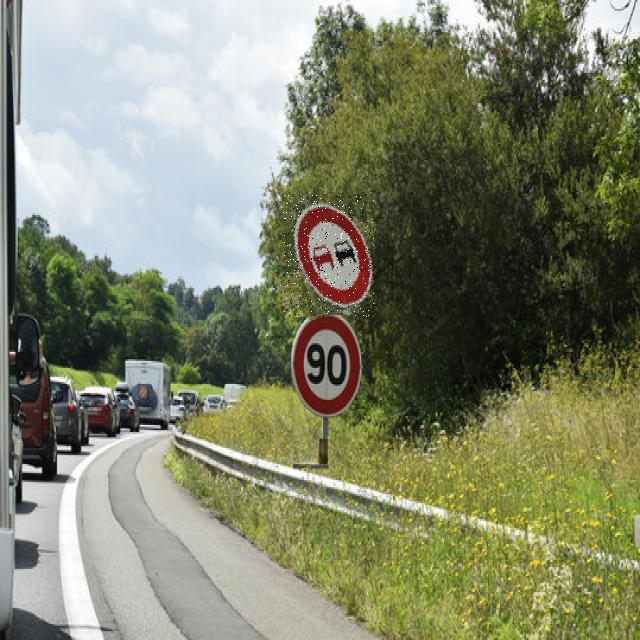no overtaking: (283, 194, 374, 317)
